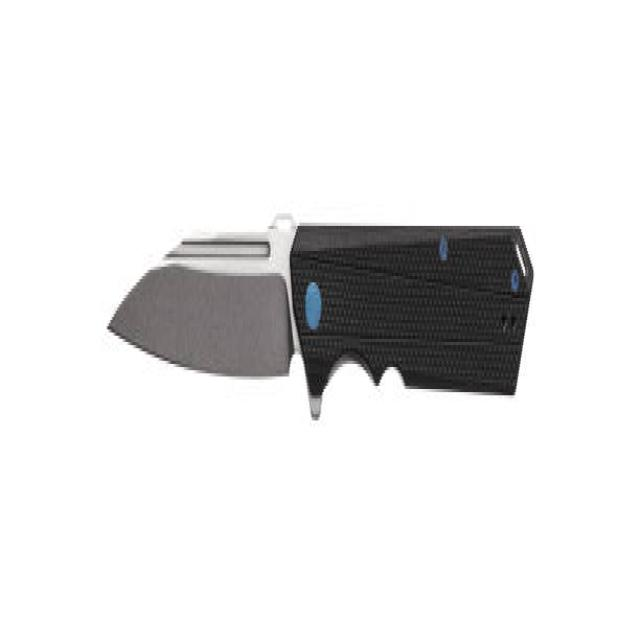knife: (101, 204, 545, 432)
